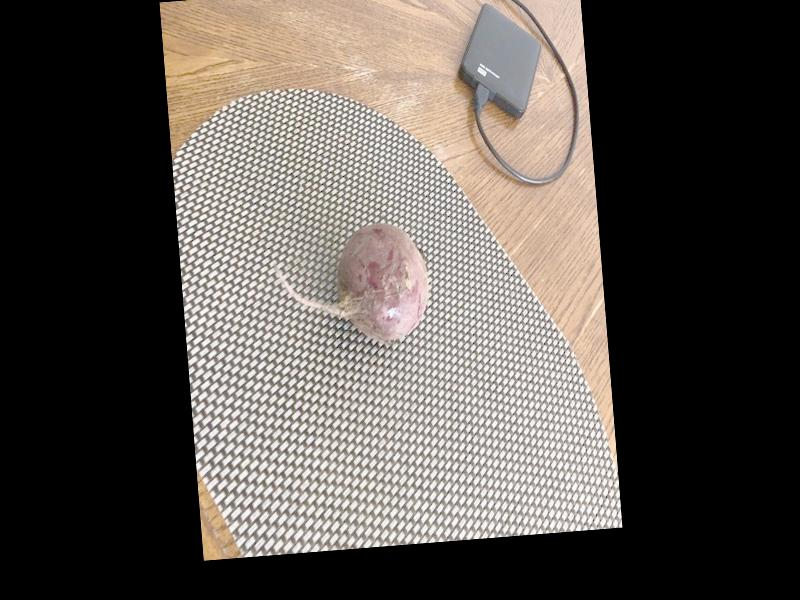Beet: (270, 220, 431, 349)
